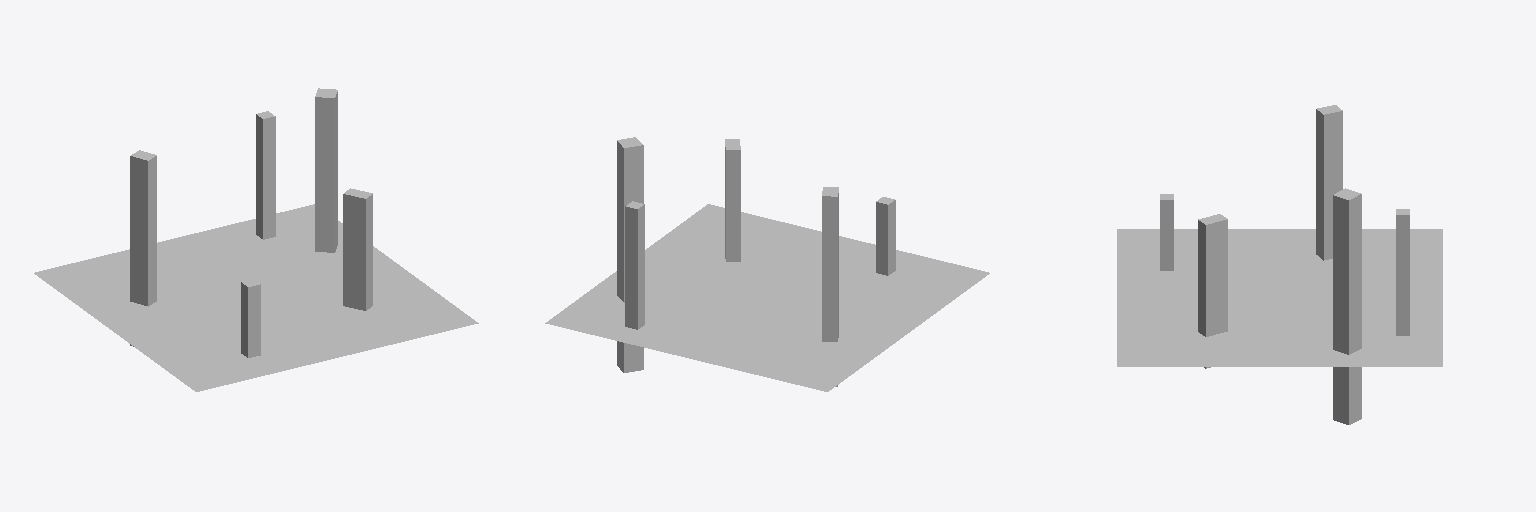
Rendered from test_platform2.obj.
3 renders of one model, left to right at view 1: azimuth 30°, elevation 25°; view 2: azimuth 150°, elevation 25°; view 3: azimuth 270°, elevation 25°, orthographic.
Visible parts, largest first — view 1: Plane; view 2: Plane; view 3: Plane.
Part boxes in pixels (x1,y1,x2,y2): Plane: (34,88,478,391); Plane: (545,137,989,391); Plane: (1117,105,1442,424).
Bounding box in the file's own units: 15.98 × 12.16 × 15.98.